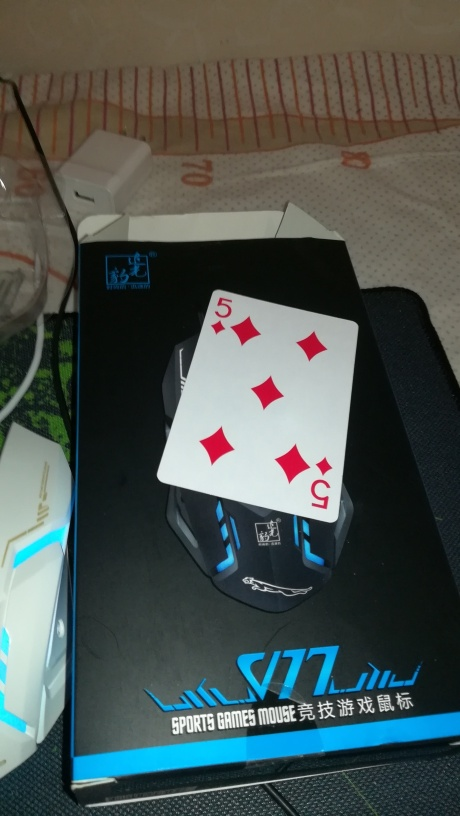fk 5: (152, 288, 360, 526)
